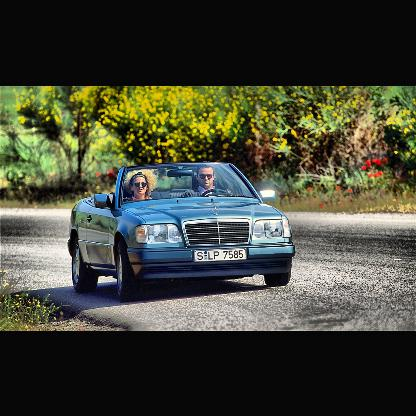Mercedes-Benz 300-Class Convertible 1993: (49, 140, 322, 304)
